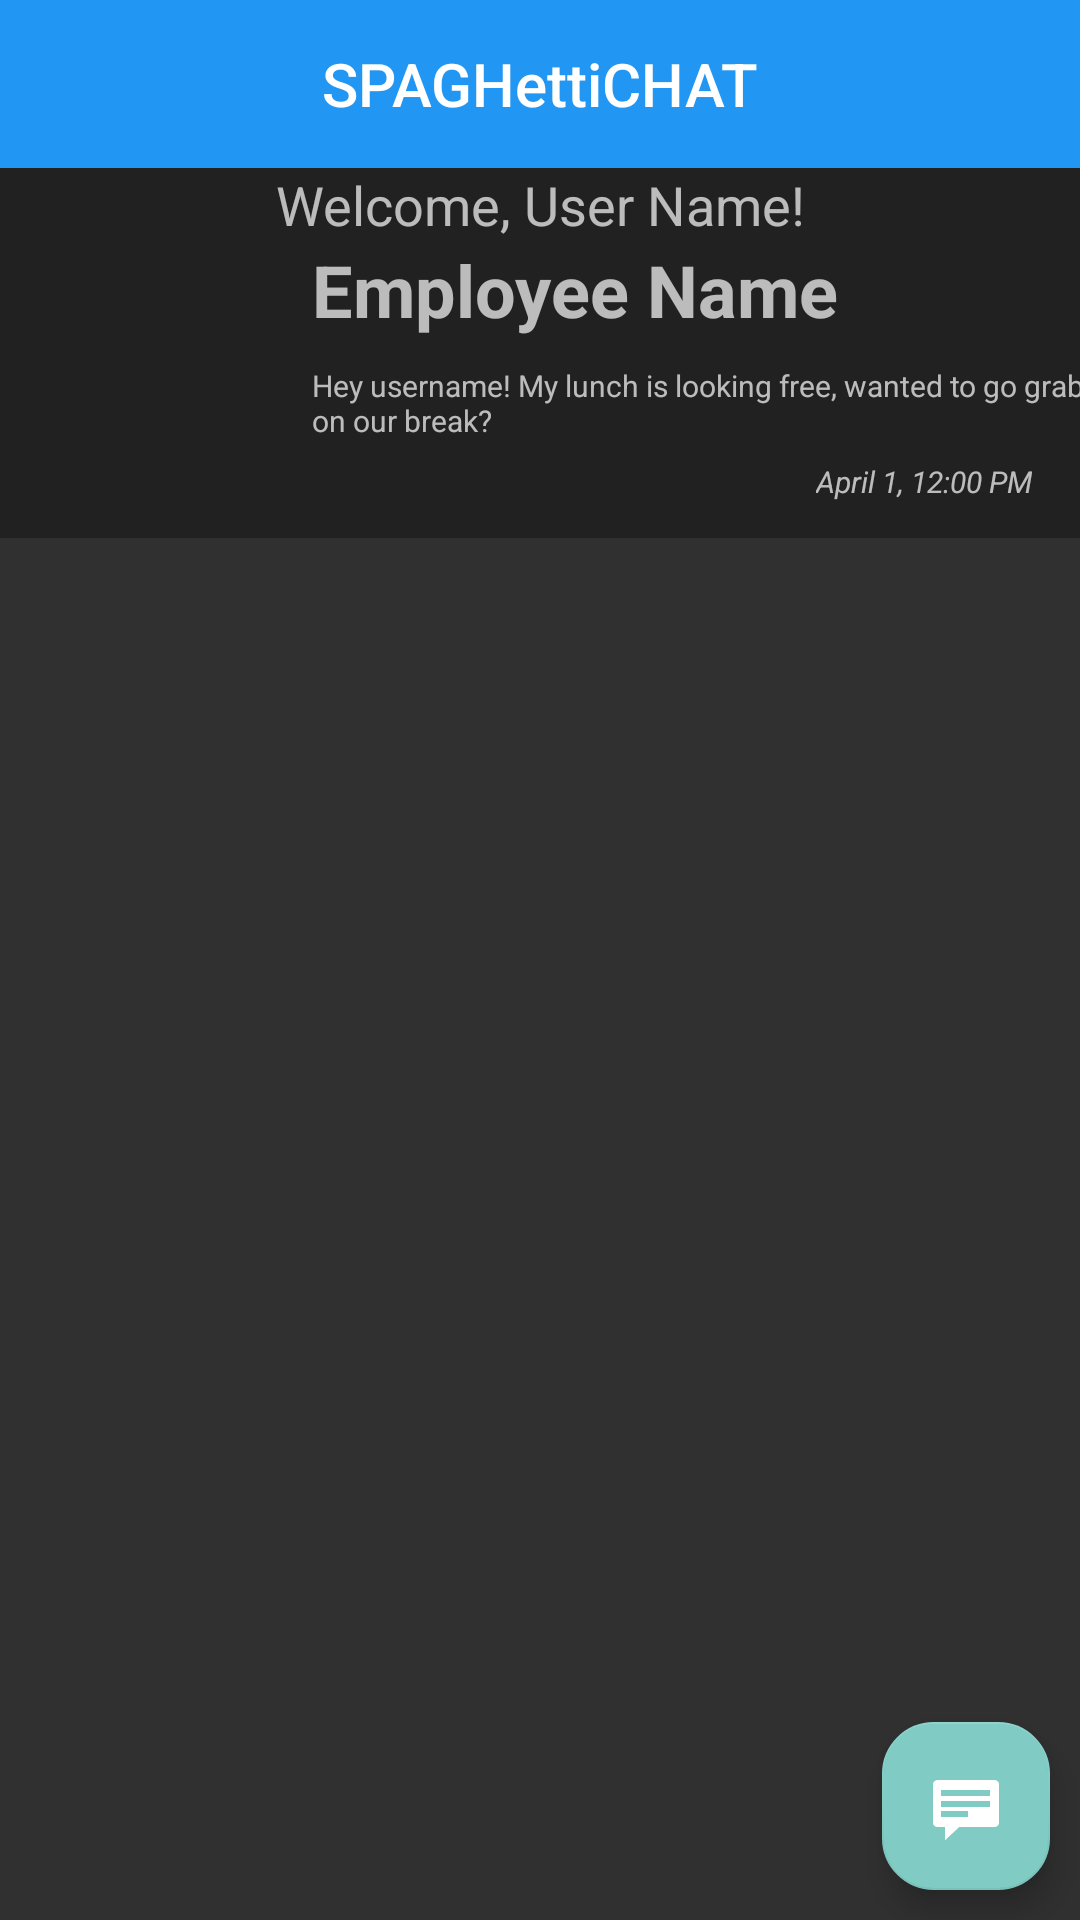

Named icons in this screenshot (1080x1920) and their centers, point (x, y):
chat: point (966, 1806)
